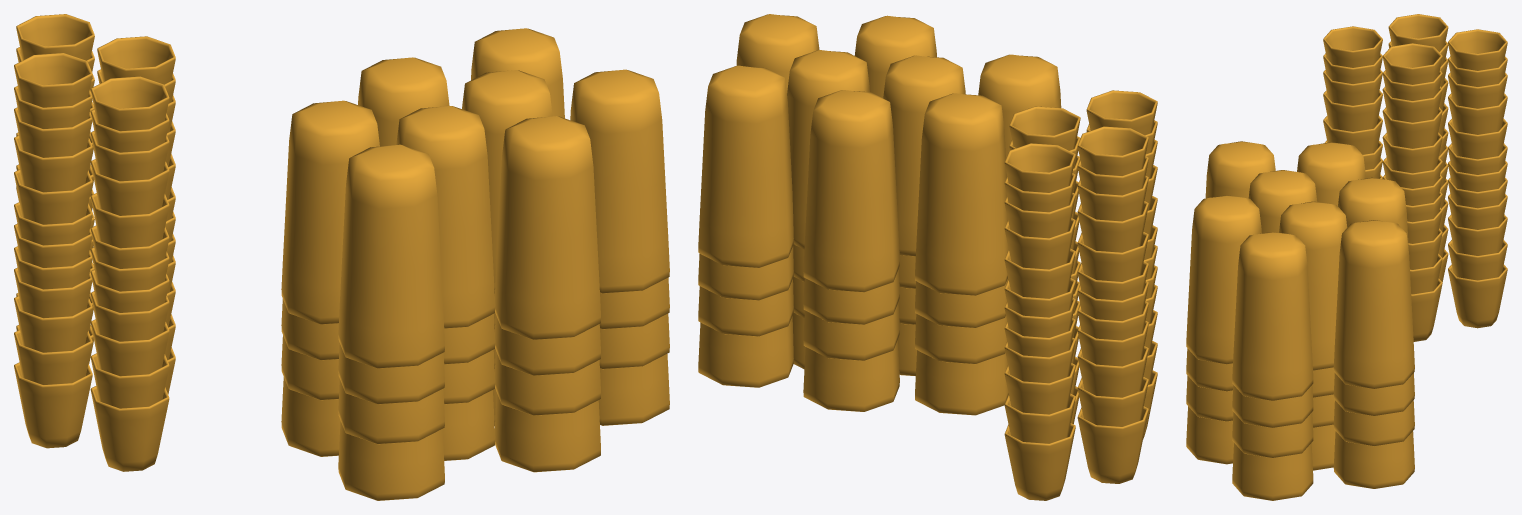
File: Stacks.fbx
The picture shows the model from 3 angles, left to right: view 1: azimuth 30°, elevation 25°; view 2: azimuth 150°, elevation 25°; view 3: azimuth 270°, elevation 25°; orthographic projection. The views are drawn at different scales.
Visible parts, largest first — view 1: Tall Glass.007, Shot Glass.004; view 2: Tall Glass.007, Shot Glass.004; view 3: Tall Glass.007, Shot Glass.004.
Boxes of the visible parts, x1=… form: Tall Glass.007: x1=281, y1=28, x2=669, y2=500; Shot Glass.004: x1=14, y1=14, x2=175, y2=471; Tall Glass.007: x1=698, y1=14, x2=1061, y2=415; Shot Glass.004: x1=1004, y1=90, x2=1157, y2=500; Tall Glass.007: x1=1186, y1=141, x2=1414, y2=500; Shot Glass.004: x1=1323, y1=14, x2=1507, y2=341.
Size of the model in its own units: 44.22 by 29.75 by 29.18.
